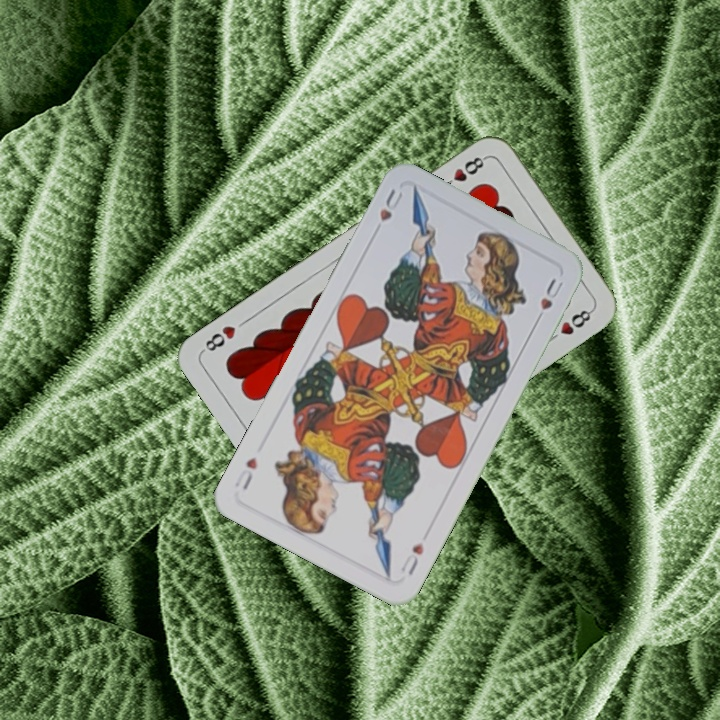H8: (438, 152, 490, 191)
HU: (396, 538, 427, 578), (375, 185, 406, 224)
